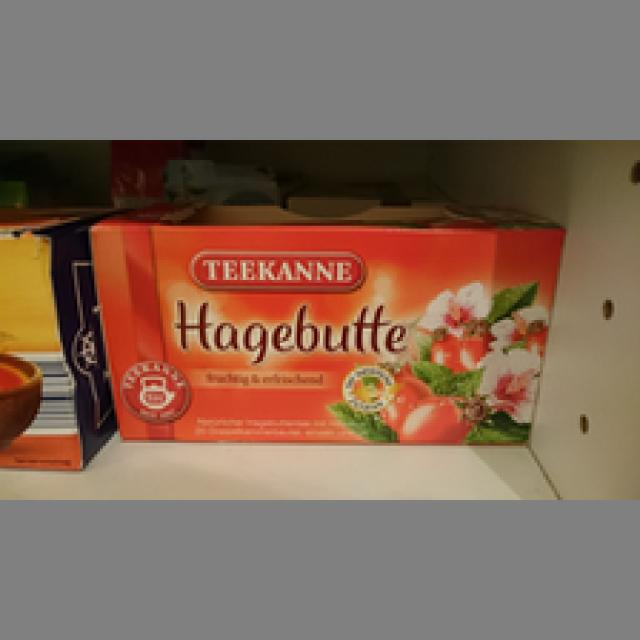groceries: (80, 197, 563, 446)
